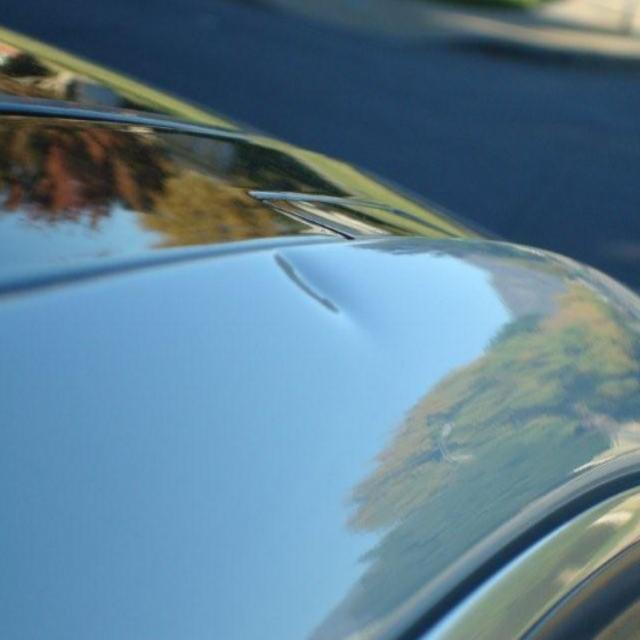dents: (268, 230, 347, 315)
